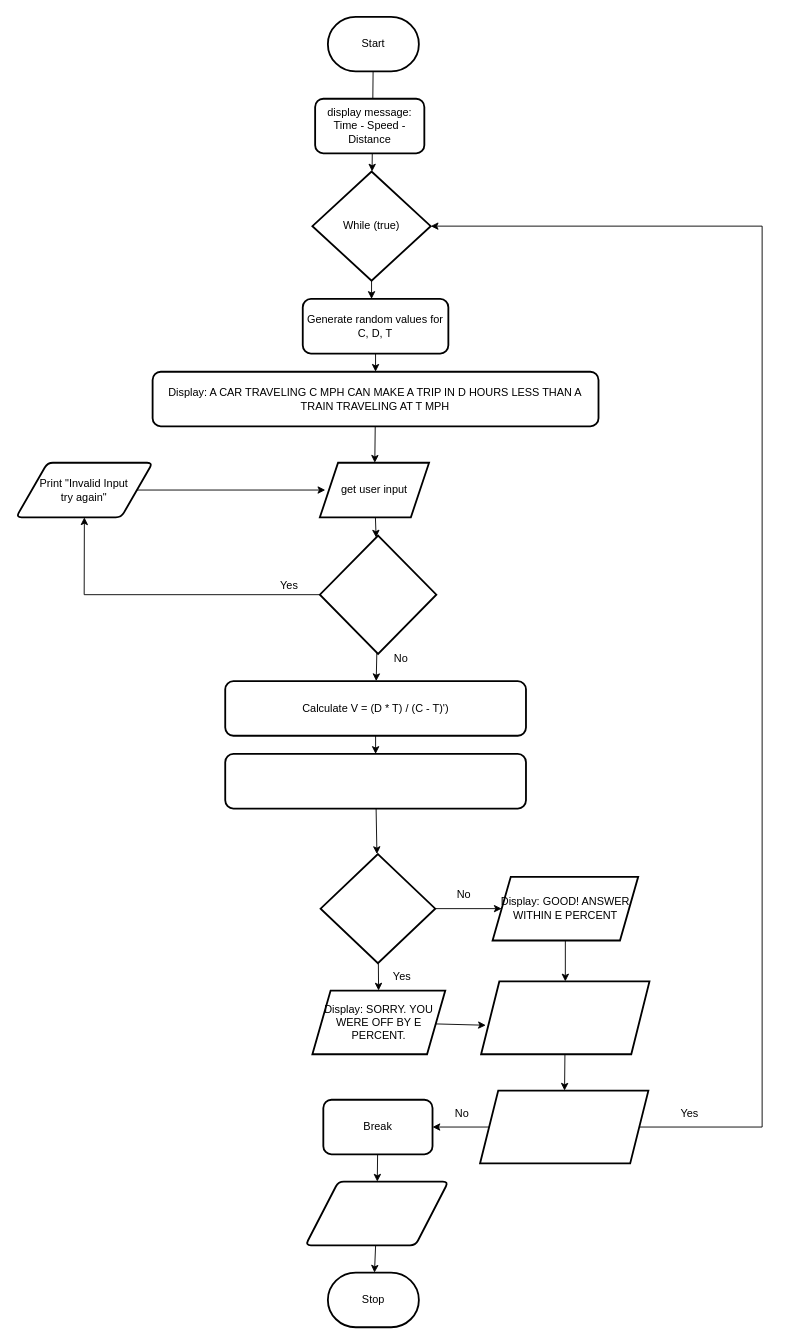
Some shapes in this 786 by 1343 pixel diagram are drawn without their labels. The centre of each missing label's shape, as x and y in pixels:
Calculate Percentage Error E = round(abs((V - Input) * 100 / A))'): point (375, 781)
Display: CORRECT ANSWER IS V HOURS.: point (565, 1017)
if (E > 5): point (377, 908)
if (isNaN(A) || A < 0) {: point (377, 594)
Print "Done.": point (376, 1213)
Prompt for Another Problem: point (564, 1126)
